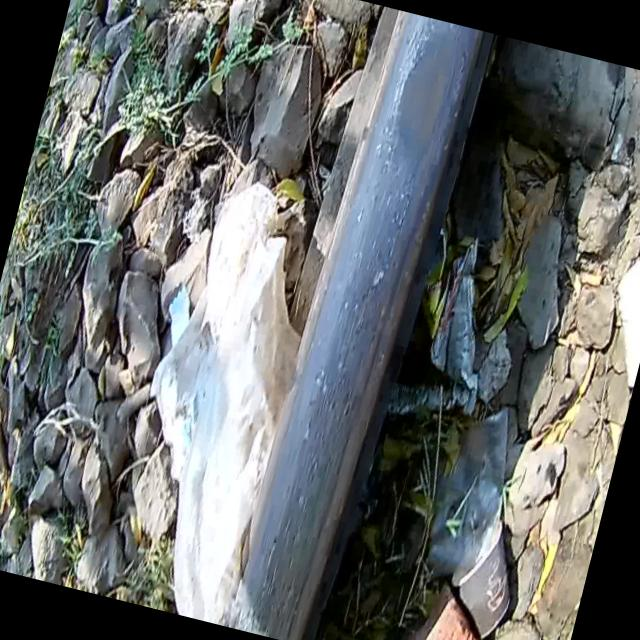Squats: (216, 3, 505, 640)
